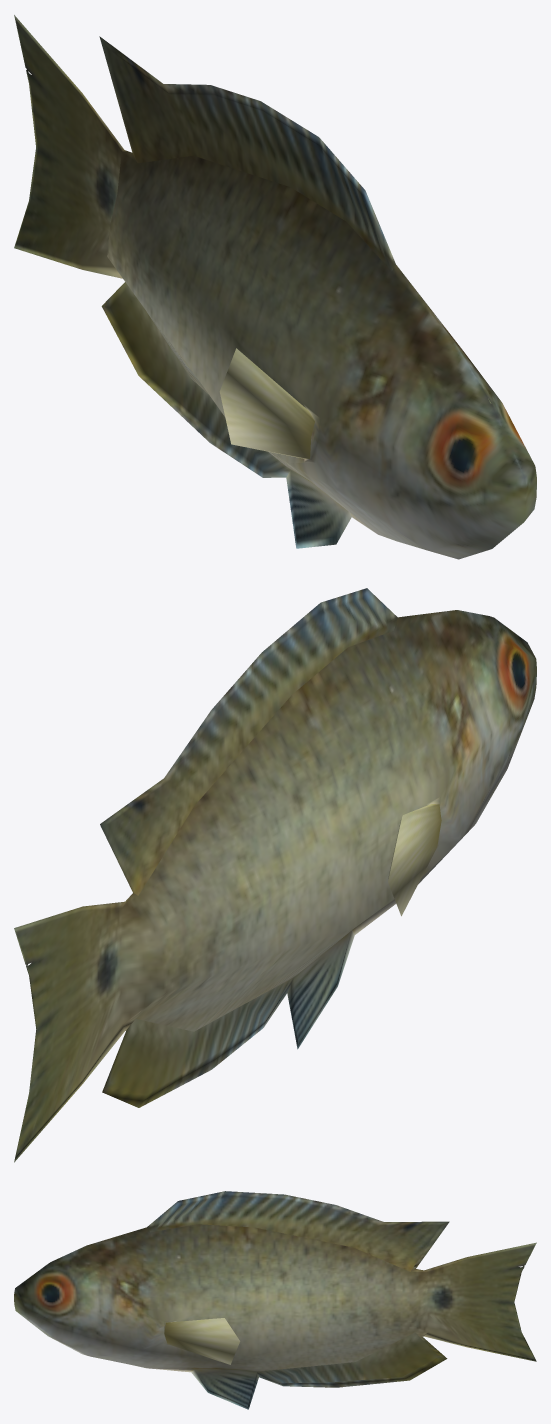
The model's file is FishUno.obj.
The picture shows the model from 3 angles, top to bottom: view 1: azimuth 30°, elevation 25°; view 2: azimuth 150°, elevation 25°; view 3: azimuth 270°, elevation 25°; orthographic projection. The views are drawn at different scales.
Visible parts, largest first — view 1: FISH; view 2: FISH; view 3: FISH.
Boxes of the visible parts, left/top/right/bottom form: FISH: left=14, top=15, right=536, bottom=559; FISH: left=14, top=588, right=536, bottom=1162; FISH: left=14, top=1191, right=536, bottom=1409.
Size of the model in its own units: 2.6 by 5.88 by 12.73.
Materials: 1 (1 with a texture image).
